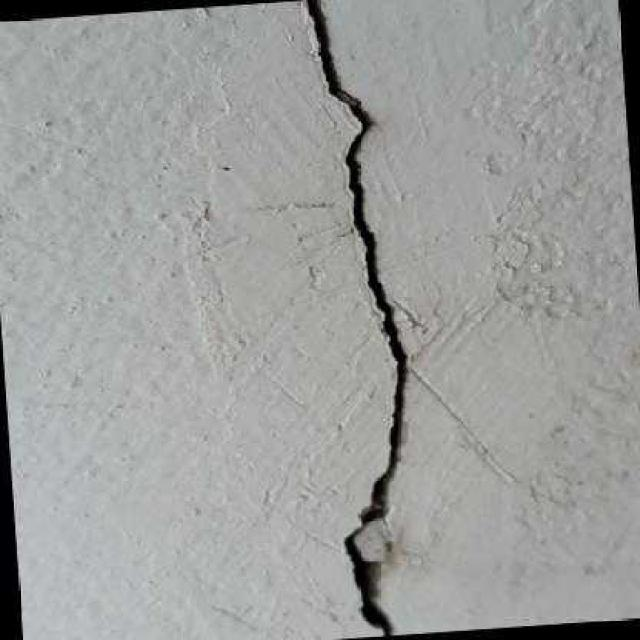D00: (305, 0, 407, 636)
